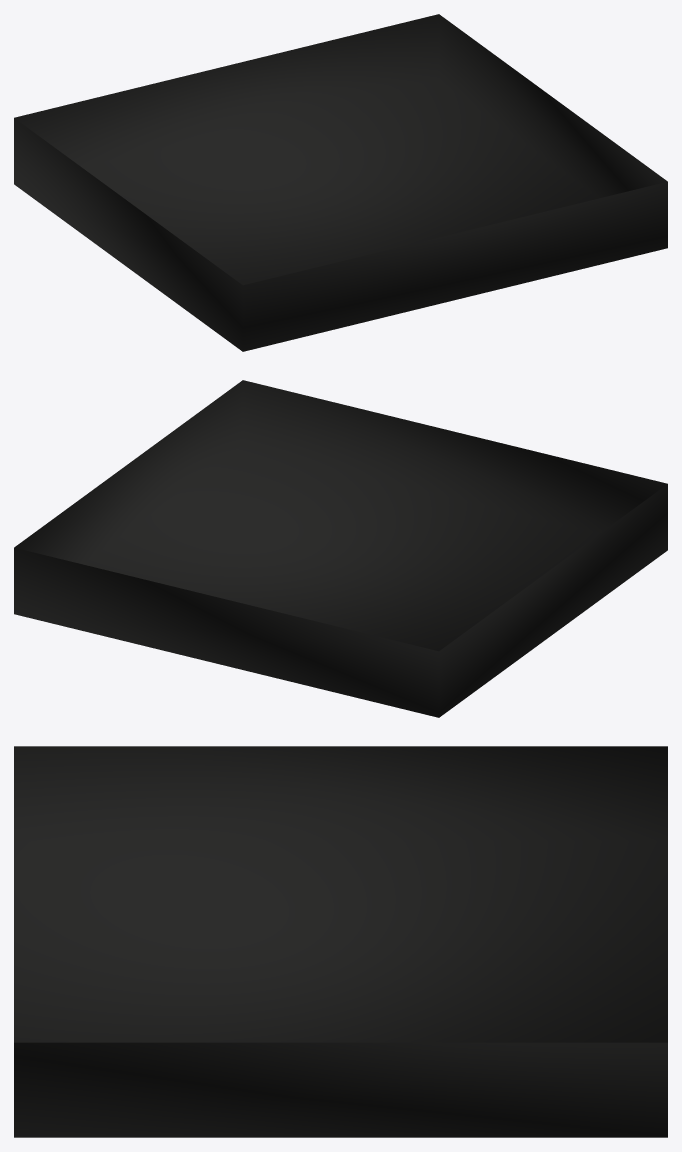
Rendered from sky.FBX.
3 views of the same model, one above another, from view 1: azimuth 30°, elevation 25°; view 2: azimuth 150°, elevation 25°; view 3: azimuth 270°, elevation 25° (orthographic). The views are drawn at different scales.
Visible parts, largest first — view 1: sky; view 2: sky; view 3: sky.
Part boxes in pixels (<box>): sky: <box>14,14,667,351</box>; sky: <box>14,380,667,717</box>; sky: <box>14,746,667,1137</box>.
Size of the model in its own units: 18846 by 2820 by 17581.
